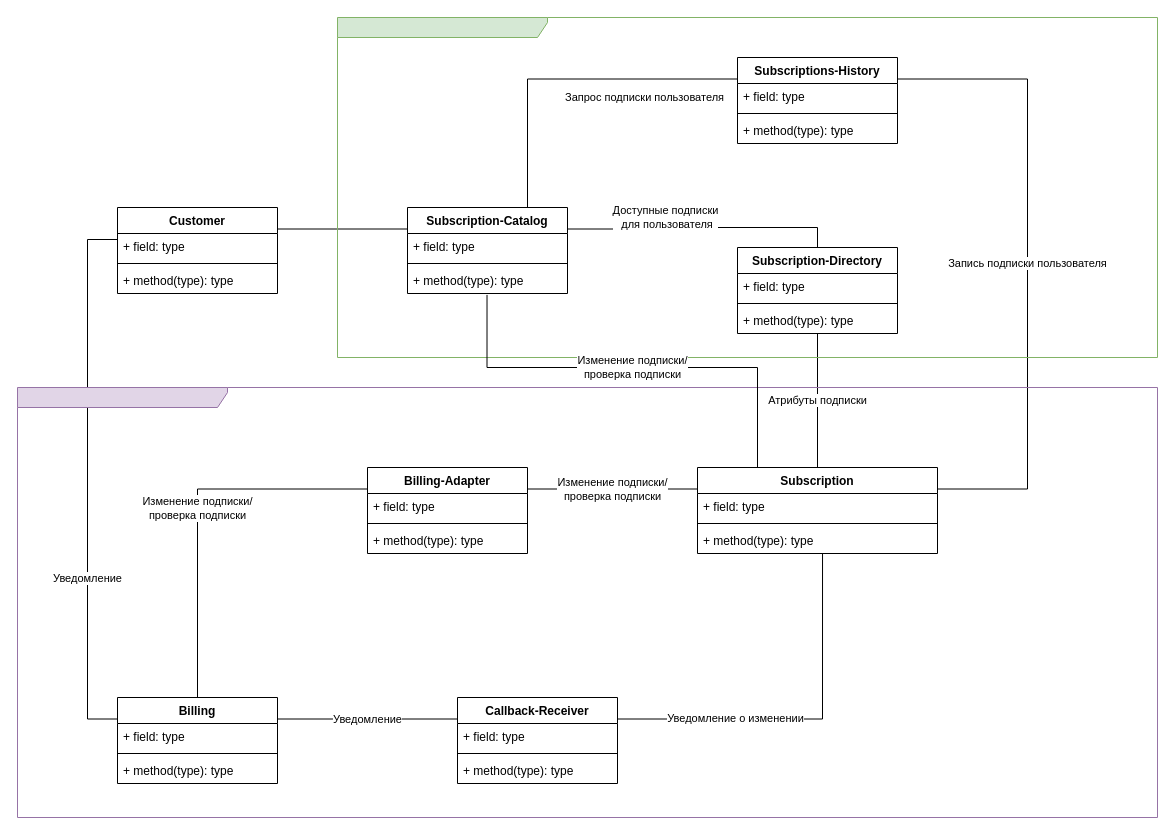
The diagram is 1175 pixels wide and 835 high, and some of its shapes have lost their labels. The centre of each missing label's shape, as x and y in pixels:
Контекст предствления данных: [747,187]
Контекст управления подписками: [587,602]
